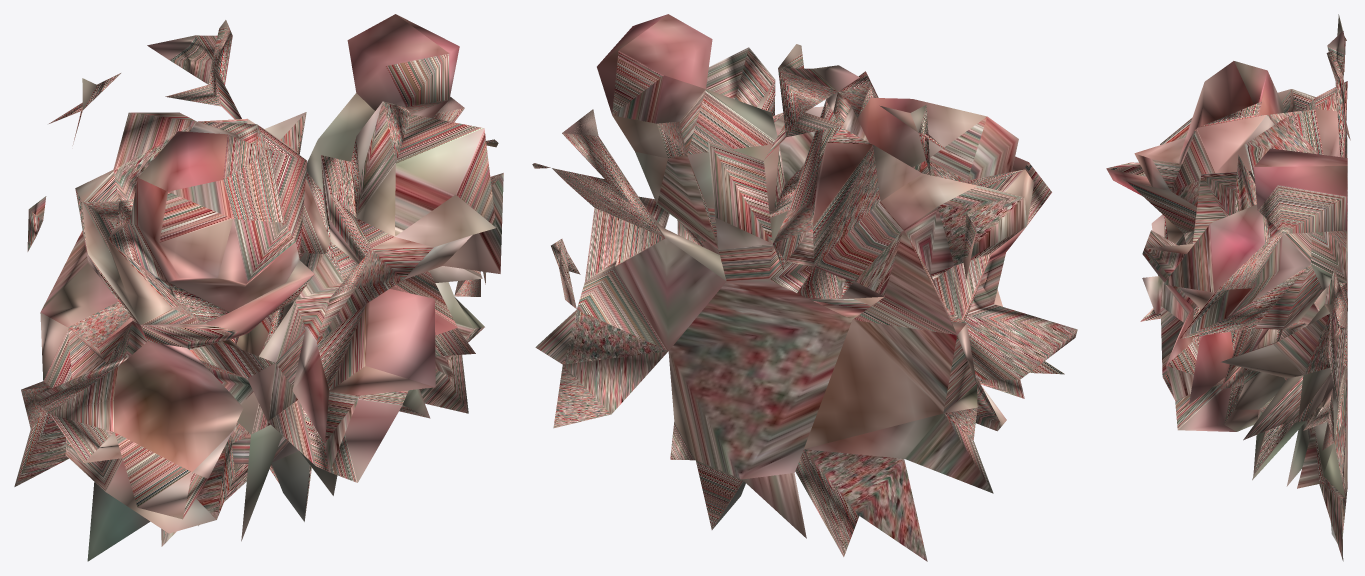
3 renders of one model, left to right at view 1: azimuth 30°, elevation 25°; view 2: azimuth 150°, elevation 25°; view 3: azimuth 270°, elevation 25°, orthographic. The views are drawn at different scales.
Visible parts, largest first — view 1: Rose-Bouquet-10-09; view 2: Rose-Bouquet-10-09; view 3: Rose-Bouquet-10-09.
Boxes of the visible parts, bbox=[...] form: Rose-Bouquet-10-09: bbox=[14, 14, 503, 561]; Rose-Bouquet-10-09: bbox=[532, 14, 1077, 561]; Rose-Bouquet-10-09: bbox=[1106, 14, 1350, 561].
Bounding box in the file's own units: 0.2948 × 0.2875 × 0.1374.
1 material, 1 textured.
